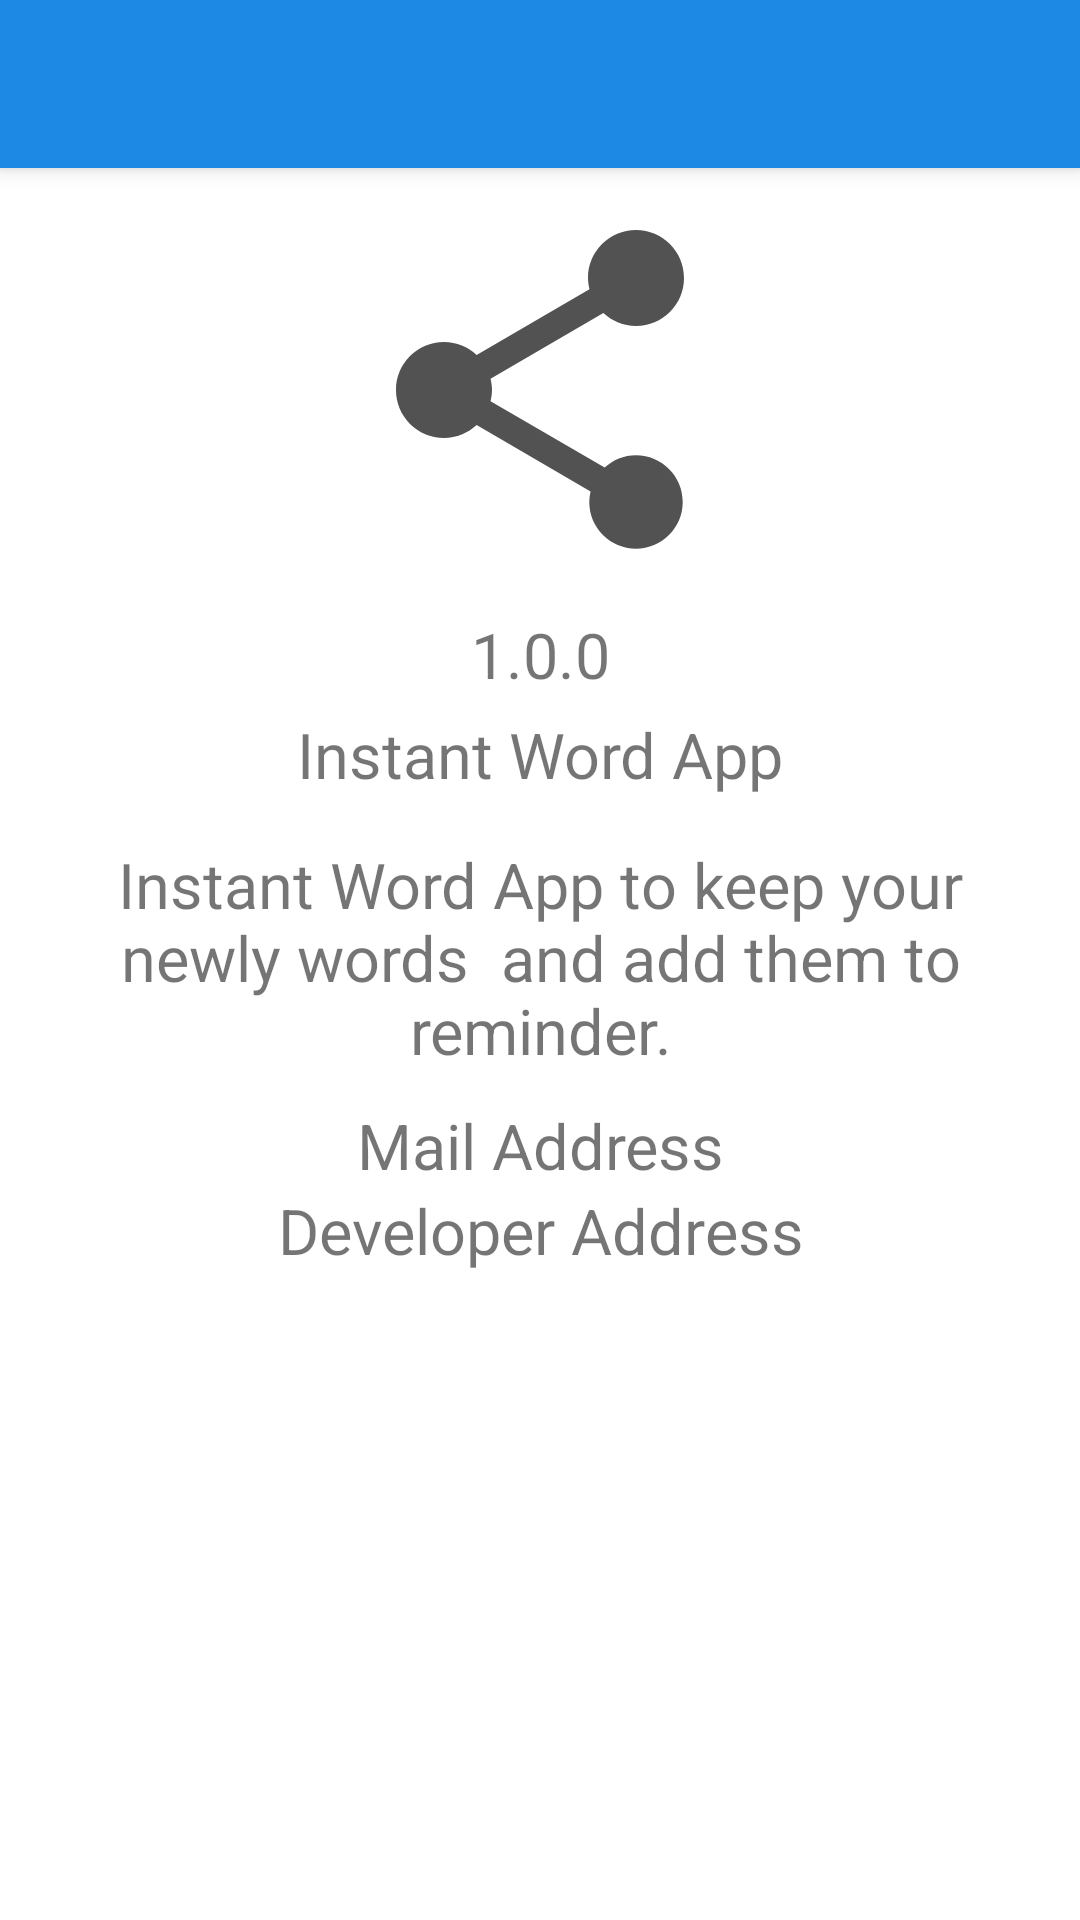

Icons on this 1080px x 1920px Android screen, each with the point to tap as (x,y):
share: (540,389)
